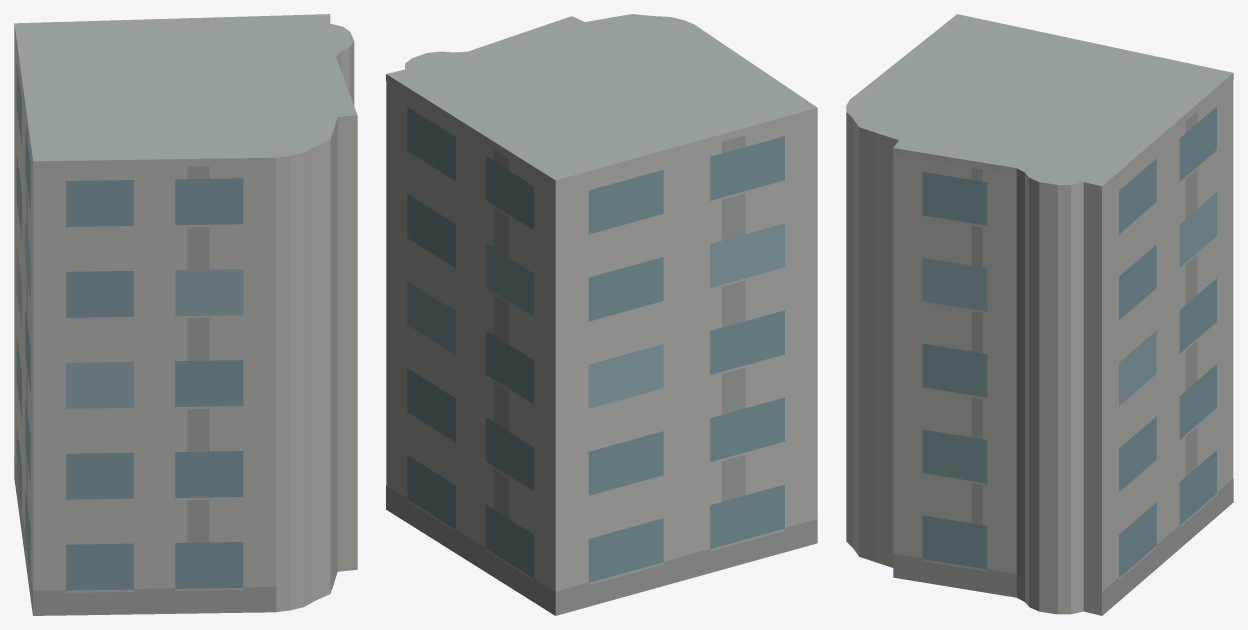
Rendered from survey-upis-33032913.glb.
The picture shows the model from 3 angles, left to right: view 1: azimuth 30°, elevation 25°; view 2: azimuth 150°, elevation 25°; view 3: azimuth 270°, elevation 25°; orthographic projection. The views are drawn at different scales.
Parts seen in each view (by area): view 1: survey-upis-33032913.tmp; view 2: survey-upis-33032913.tmp; view 3: survey-upis-33032913.tmp.
Part boxes in pixels (x1,y1,x2,y2): survey-upis-33032913.tmp: [14, 14, 357, 615]; survey-upis-33032913.tmp: [386, 14, 817, 615]; survey-upis-33032913.tmp: [846, 14, 1233, 615].
Bounding box in the file's own units: 12.4 × 14.4 × 11.77.
